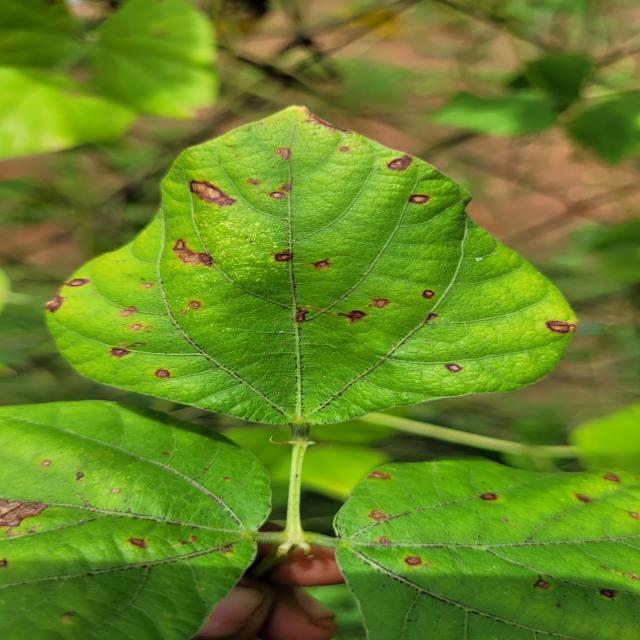Dolicos bean_cercospora leaf spot: (46, 97, 576, 431), (0, 386, 269, 640), (342, 456, 640, 640)
